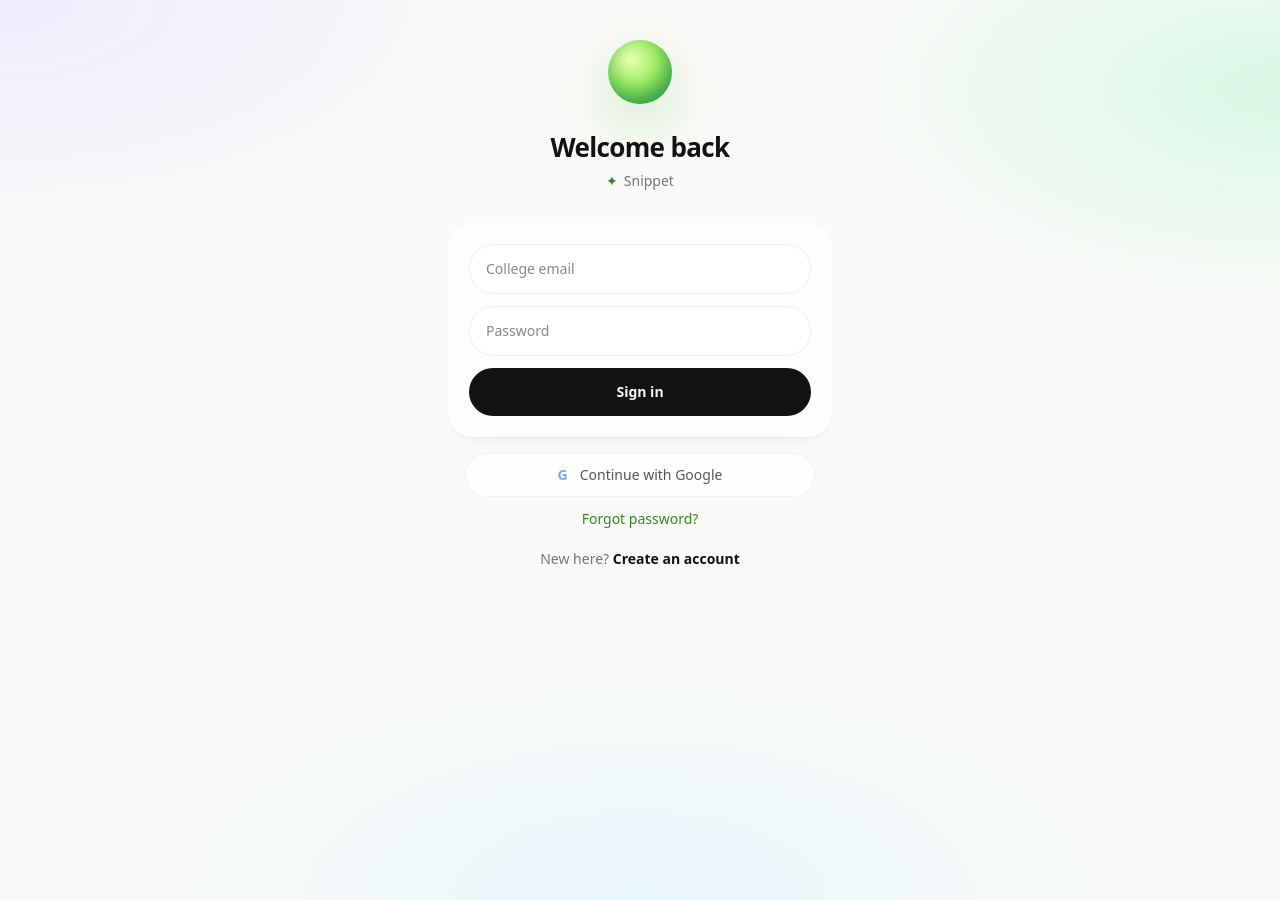
AuthPage Login Error Handling › 3. Distinguishes HTTP 401 as 'Invalid email or password' without implying rate limiting
Type "student@ustu.edu.in" into the field with placeholder "College email" at (640, 269), box x1=469 y1=244 x2=811 y2=294
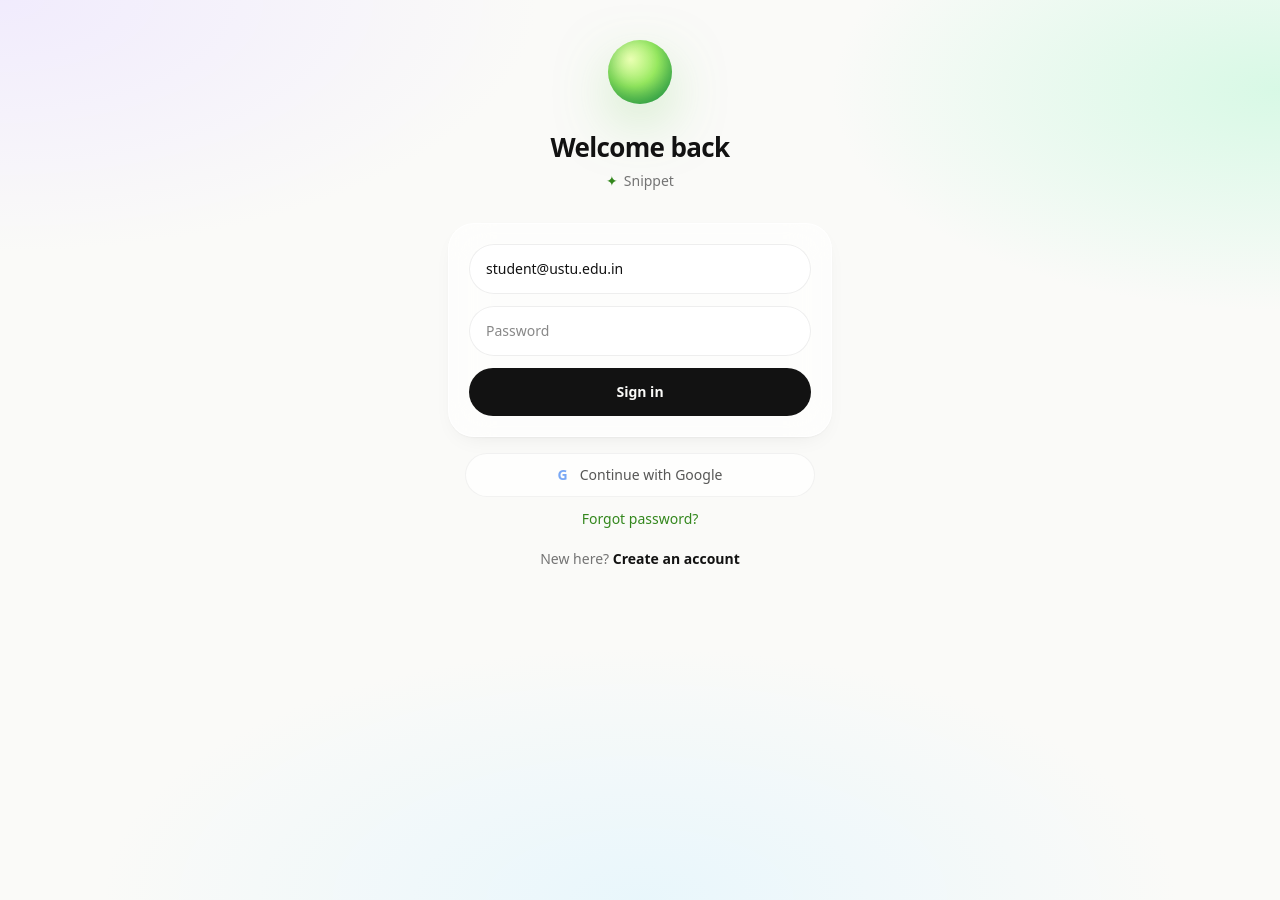
Type "wrongpassword" into the password field with placeholder "Password" at (640, 331), box x1=469 y1=306 x2=811 y2=356
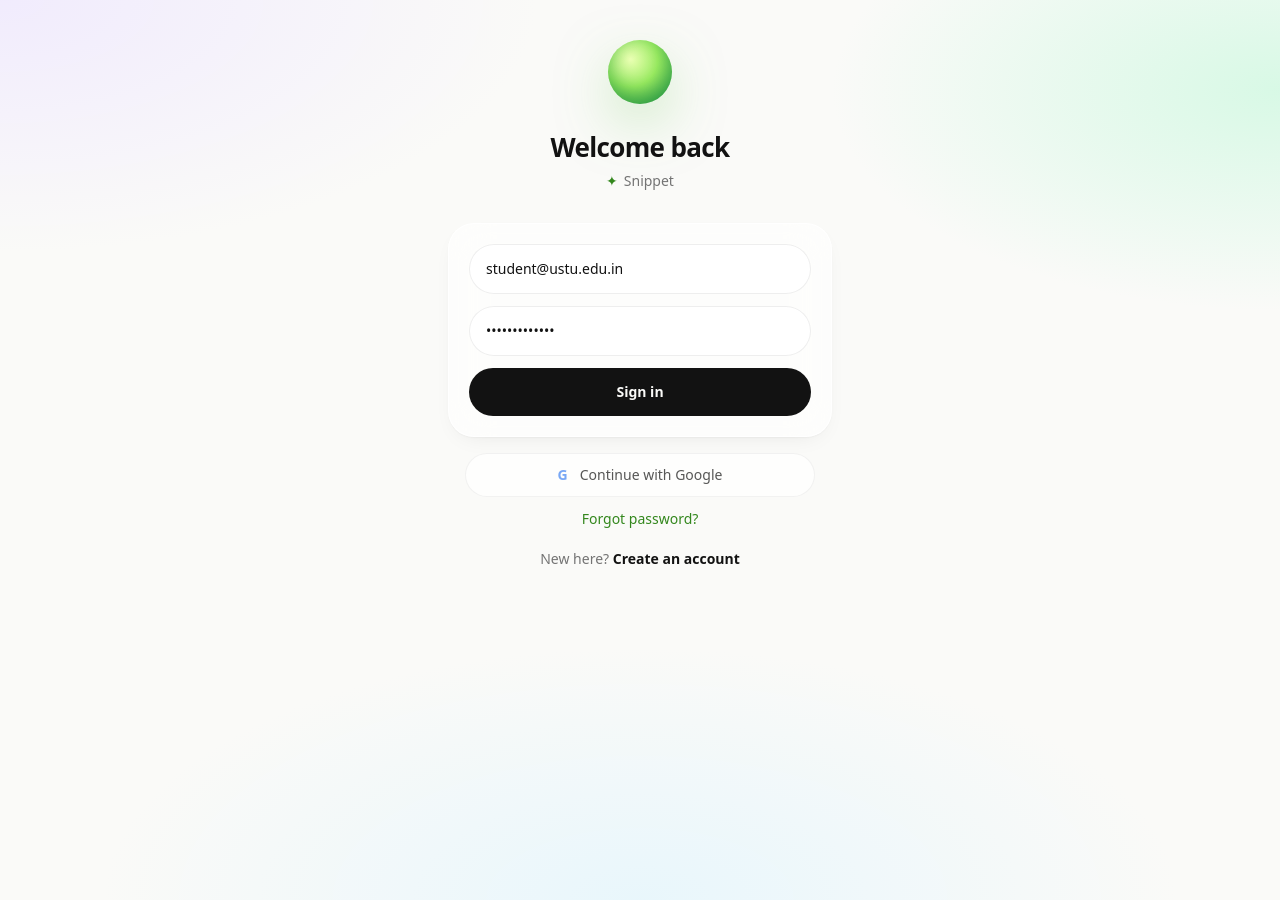
Click the button "Sign in" at (640, 392), box x1=469 y1=368 x2=811 y2=416
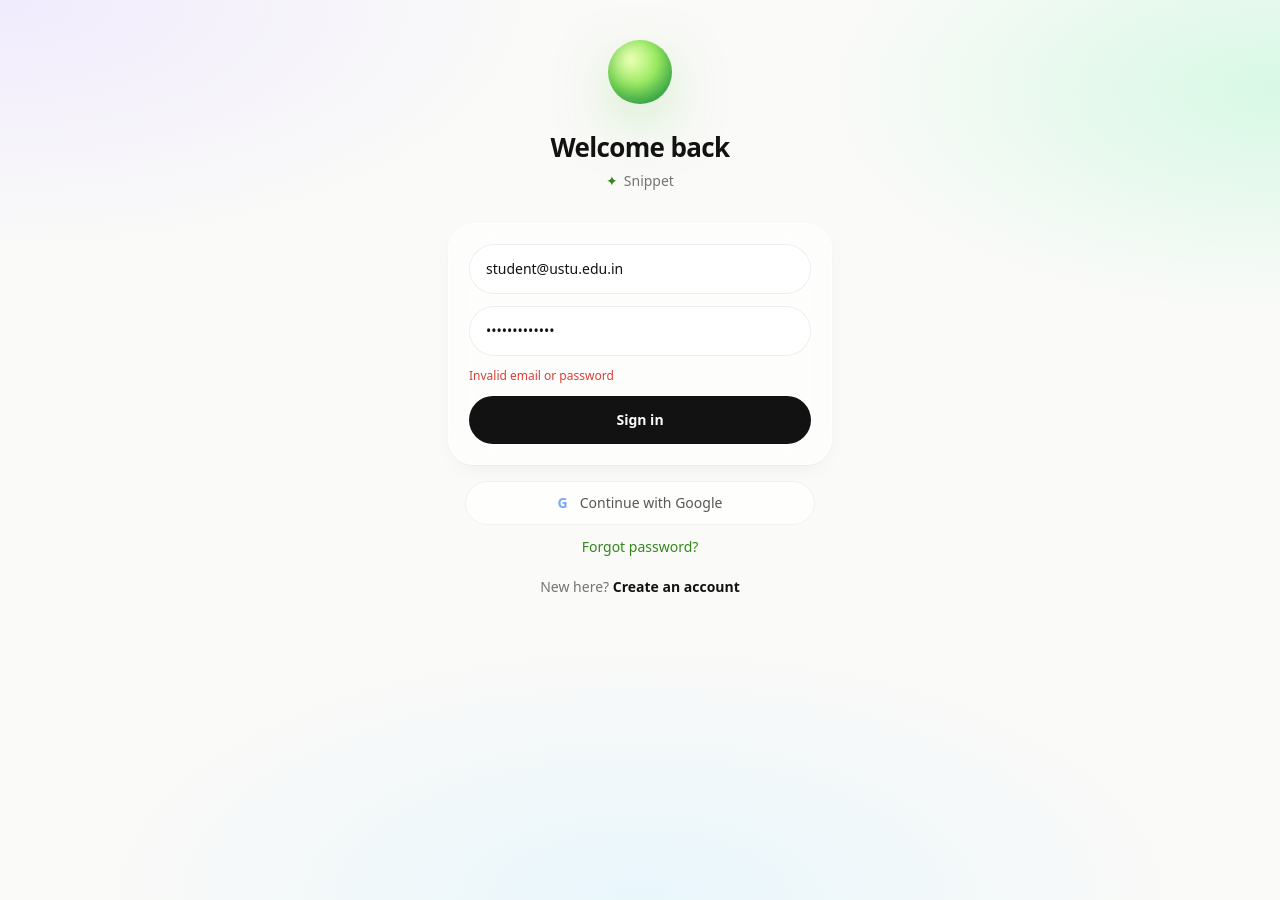
Expected: the button "Sign in" is enabled, x1=469 y1=396 x2=811 y2=444
Result: the text "Invalid email or password" is shown at x1=469 y1=367 x2=614 y2=384
